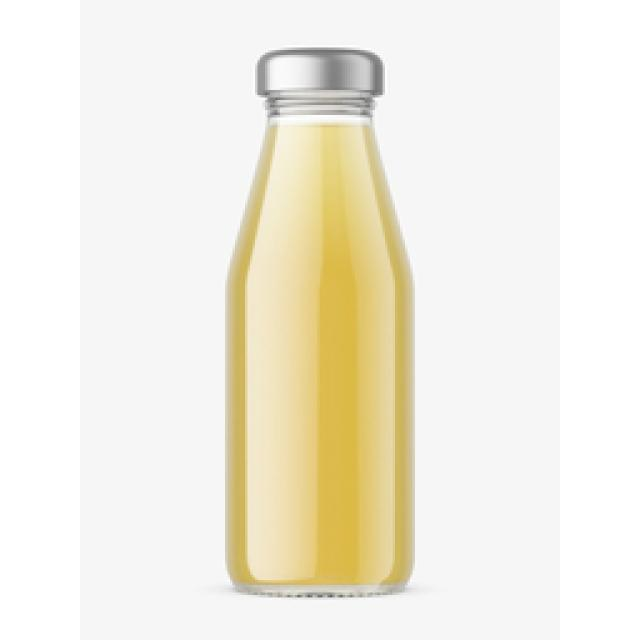glass_beverage_bottles: (224, 41, 414, 606)
